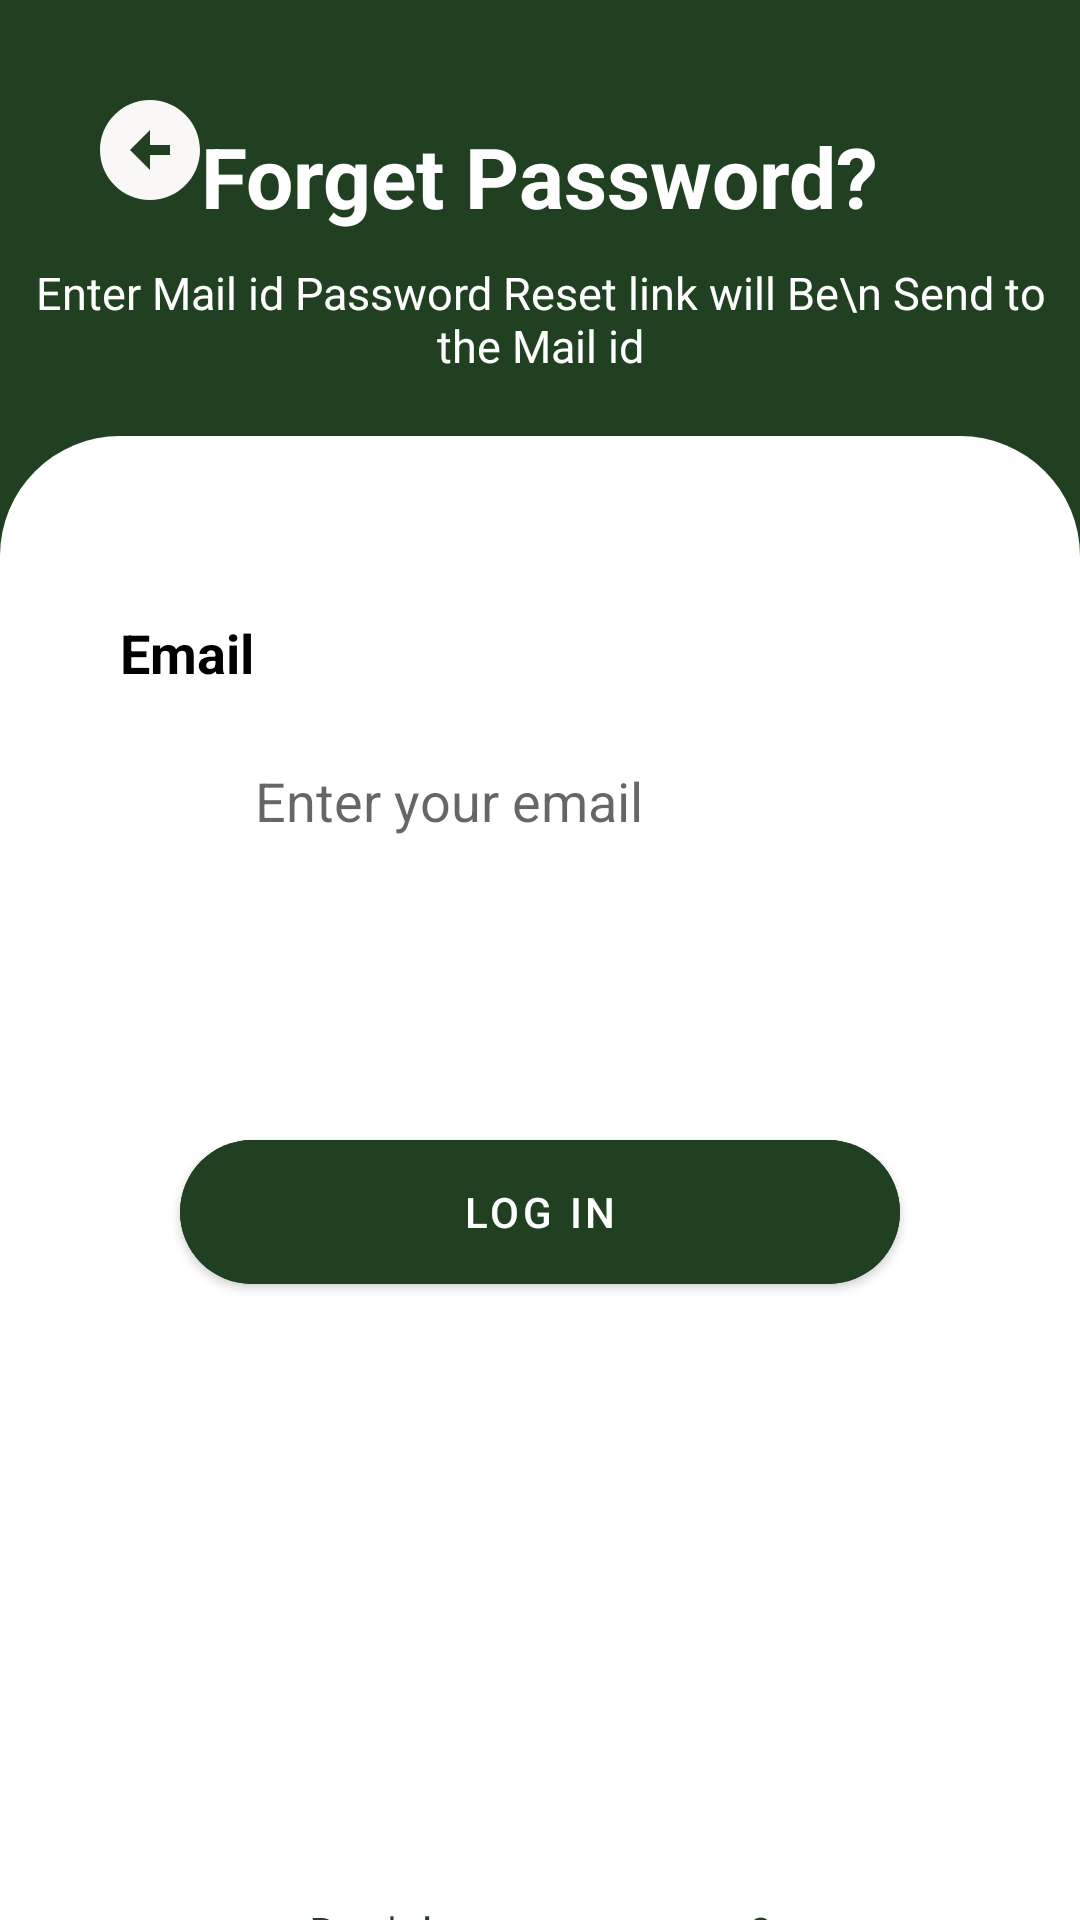

Icons on this 1080 x 1920 Android screen, each with the point to tap as point (x, y):
back: point (150, 150)
